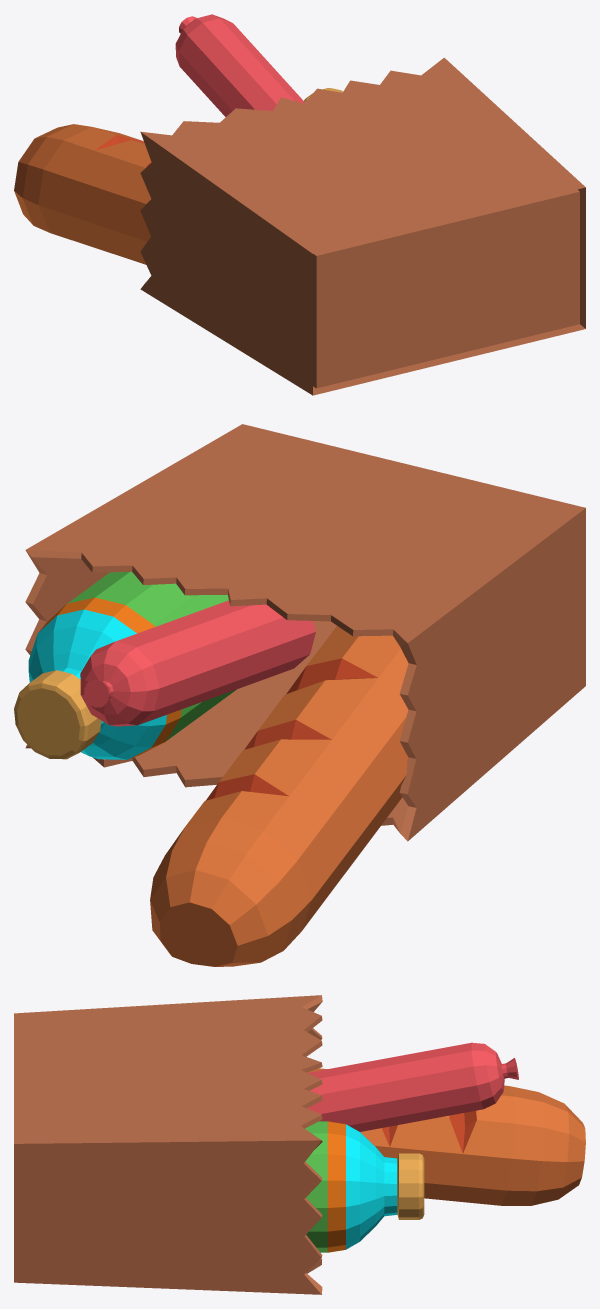
File: bag.fbx
3 views of the same model, one above another, from view 1: azimuth 30°, elevation 25°; view 2: azimuth 150°, elevation 25°; view 3: azimuth 270°, elevation 25° (orthographic). The views are drawn at different scales.
Parts seen in each view (by area): view 1: bag; view 2: bag; view 3: bag.
Part boxes in pixels (left/top/right/bottom): bag: left=14, top=14, right=585, bottom=395; bag: left=14, top=424, right=585, bottom=966; bag: left=14, top=995, right=585, bottom=1294.
Size of the model in its own units: 152 by 90.96 by 243.
